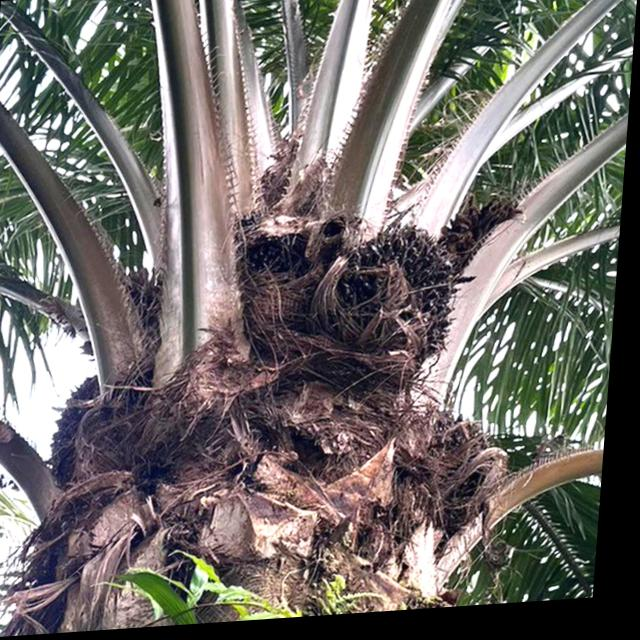unripe: (326, 221, 478, 364), (230, 200, 335, 290), (46, 374, 108, 490)
